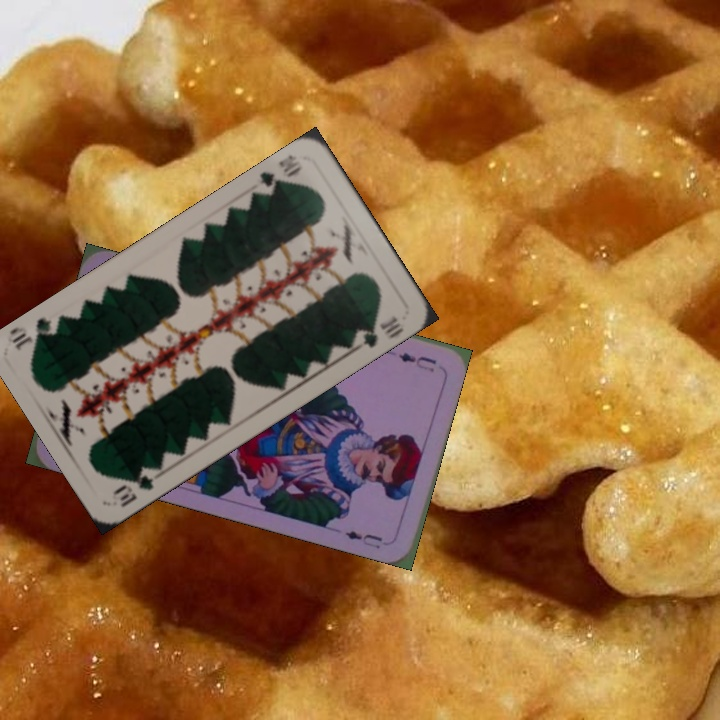EU: (394, 348, 439, 375)
G10: (109, 463, 160, 510), (256, 151, 304, 195)
